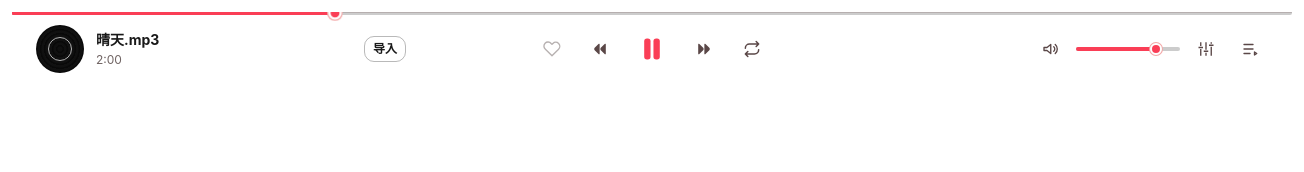
Test case: PlayerBar (task 11.7) — temporary item label › shows a non-success result without claiming an import (savedPending)
Click the button "导入": (385, 49) top-left (364, 36), bottom-right (406, 62)
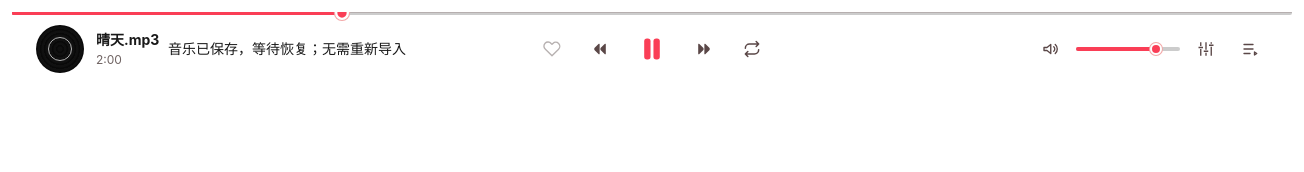
Check: the text with test id "player-import-result" reads "音乐已保存，等待恢复；无需重新导入", box top-left (168, 40), bottom-right (406, 57)
